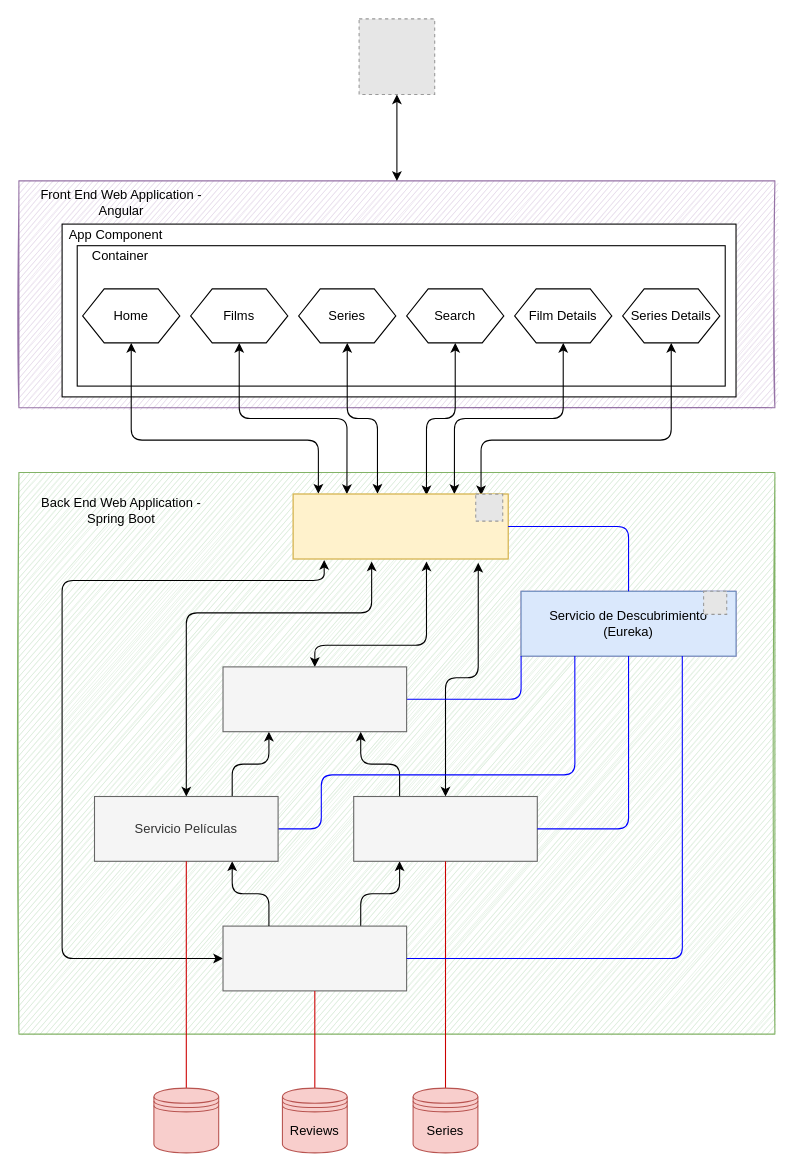
The diagram is 794 pixels wide and 1172 high, and some of its shapes have lost their labels. Grey dashed boxes stand in for pictures. Here are the shapes that lost their labels. From the top down, the box of each, then its label:
(292, 493, 508, 559): Servicio Frontera (Zuul)
(222, 666, 407, 732): Servicio Búsqueda
(353, 795, 537, 861): Servicio Series
(222, 925, 407, 991): Servicio Reviews
(153, 1087, 219, 1153): Películas
